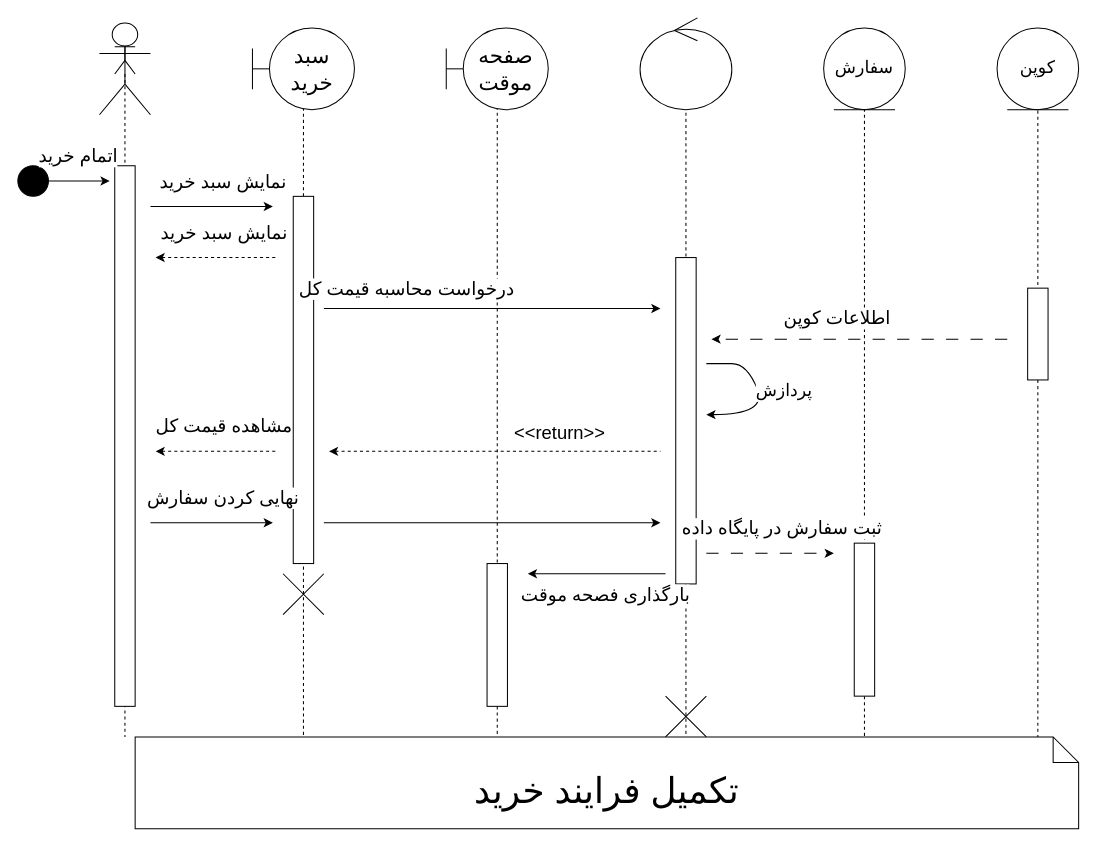
This 1097x847 diagram has some shape labels left out. Here are the shapes that lost their labels. From the top down, the centre of each, then its label:
[124,68]: customer: Customer
[685,63]: خرید
